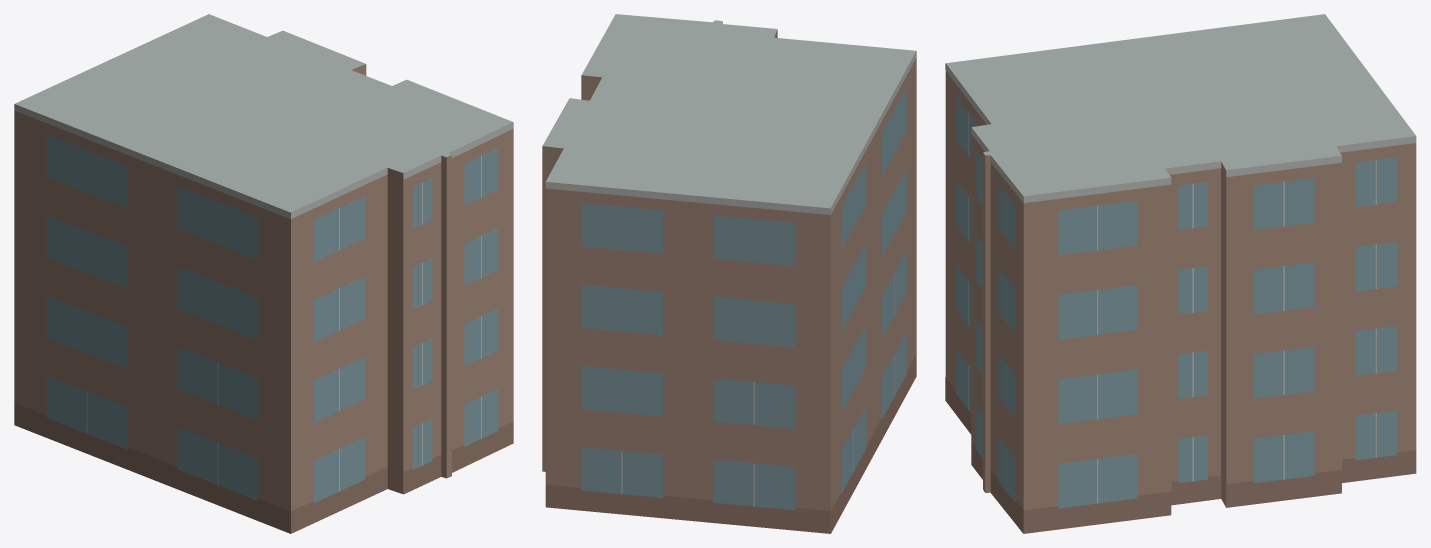
Rendered from survey-upis-32520961.glb.
3 renders of one model, left to right at view 1: azimuth 30°, elevation 25°; view 2: azimuth 150°, elevation 25°; view 3: azimuth 270°, elevation 25°, orthographic. The views are drawn at different scales.
Parts seen in each view (by area): view 1: survey-upis-32520961.tmp; view 2: survey-upis-32520961.tmp; view 3: survey-upis-32520961.tmp.
Part boxes in pixels (<box>): survey-upis-32520961.tmp: <box>14,14,513,533</box>; survey-upis-32520961.tmp: <box>542,14,916,533</box>; survey-upis-32520961.tmp: <box>945,14,1416,533</box>.
Size of the model in its own units: 13.84 by 11.93 by 15.09.
